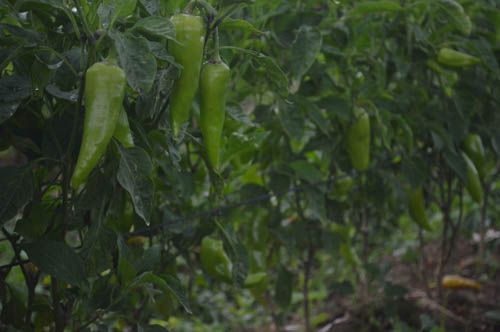ChiliPepper: (73, 65, 124, 186), (171, 15, 205, 137), (205, 60, 230, 171), (197, 239, 233, 279), (346, 112, 368, 168), (458, 149, 482, 198), (407, 180, 429, 229), (441, 47, 481, 65)
